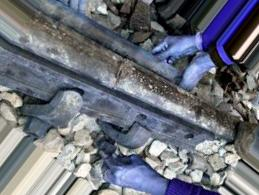tracks_fault: (32, 16, 243, 157)
